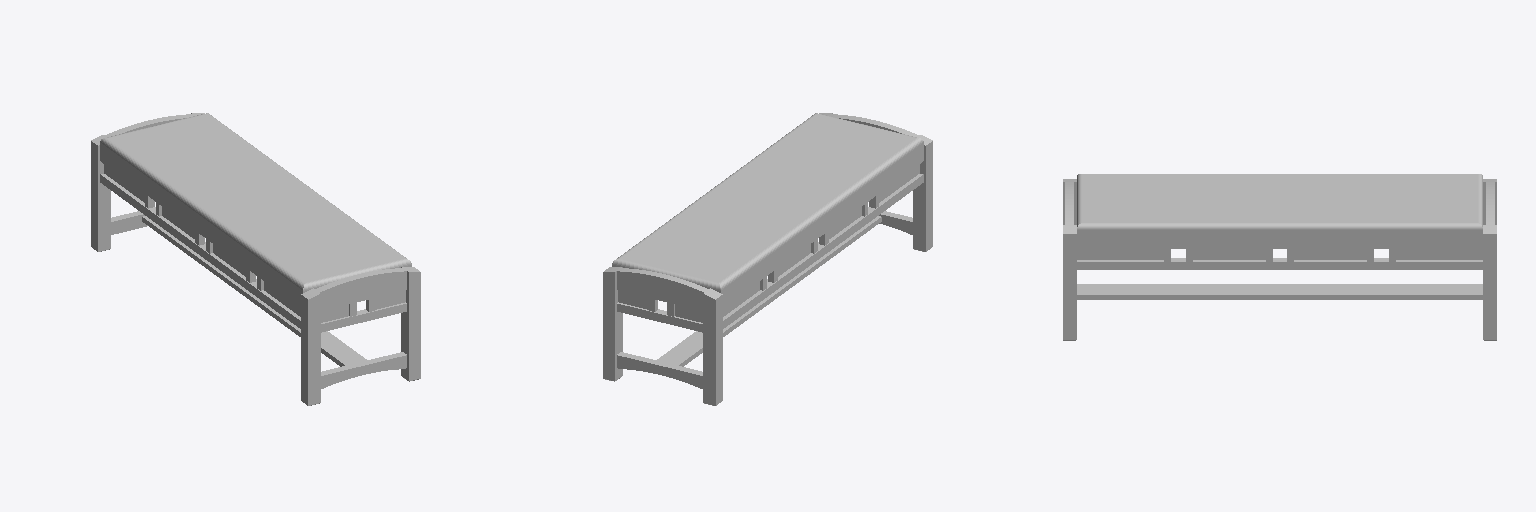
Rendered from chair1.obj.
3 renders of one model, left to right at view 1: azimuth 30°, elevation 25°; view 2: azimuth 150°, elevation 25°; view 3: azimuth 270°, elevation 25°, orthographic.
Parts seen in each view (by area): view 1: Mesh25 Bench_Cushion1 WB_60_1 Model, Mesh9 side_rail_10_2 WB_60_1 Model, Mesh35 leg_3_1 WB_60_1 Model, Mesh3 Bench_Stretcher1 WB_60_1 Model, Mesh39 leg_3_2 WB_60_1 Model, Mesh42 leg_3_3 WB_60_1 Model, Mesh7 side_rail_10_1 WB_60_1 Model, Mesh40 Bench_Crest_Rail1 WB_60_1 Model, Mesh1 Bench_Lower_Rail1 WB_60_1 Model, Mesh32 side_rail_9_4 WB_60_1 Model, Mesh29 side_rail_9_3 WB_60_1 Model, Mesh46 Bench_Lower_Rail2 WB_60_1 Model; view 2: Mesh25 Bench_Cushion1 WB_60_1 Model, Mesh9 side_rail_10_2 WB_60_1 Model, Mesh42 leg_3_3 WB_60_1 Model, Mesh3 Bench_Stretcher1 WB_60_1 Model, Mesh43 leg_3_4 WB_60_1 Model, Mesh35 leg_3_1 WB_60_1 Model, Mesh7 side_rail_10_1 WB_60_1 Model, Mesh45 Bench_Crest_Rail2 WB_60_1 Model, Mesh46 Bench_Lower_Rail2 WB_60_1 Model, Mesh23 side_rail_9_1 WB_60_1 Model, Mesh28 side_rail_9_2 WB_60_1 Model; view 3: Mesh25 Bench_Cushion1 WB_60_1 Model, Mesh3 Bench_Stretcher1 WB_60_1 Model, Mesh18 side_rail_10_3 WB_60_1 Model, Mesh26 side_rail_10_4 WB_60_1 Model, Mesh39 leg_3_2 WB_60_1 Model, Mesh43 leg_3_4 WB_60_1 Model, Mesh4 side_panel_12_1 WB_60_1 Model, Mesh36 side_panel_12_4 WB_60_1 Model, Mesh37 side_panel_13_3 WB_60_1 Model, Mesh38 side_panel_13_4 WB_60_1 Model.
Boxes of the visible parts, box(x1,y1,x2,y2) form: Mesh25 Bench_Cushion1 WB_60_1 Model: box(100, 113, 411, 299); Mesh9 side_rail_10_2 WB_60_1 Model: box(100, 174, 300, 328); Mesh35 leg_3_1 WB_60_1 Model: box(301, 288, 320, 405); Mesh3 Bench_Stretcher1 WB_60_1 Model: box(142, 216, 366, 366); Mesh39 leg_3_2 WB_60_1 Model: box(401, 267, 420, 381); Mesh42 leg_3_3 WB_60_1 Model: box(91, 135, 110, 251); Mesh7 side_rail_10_1 WB_60_1 Model: box(100, 153, 300, 307); Mesh40 Bench_Crest_Rail1 WB_60_1 Model: box(315, 268, 406, 302); Mesh1 Bench_Lower_Rail1 WB_60_1 Model: box(321, 352, 406, 388); Mesh32 side_rail_9_4 WB_60_1 Model: box(321, 302, 406, 332); Mesh29 side_rail_9_3 WB_60_1 Model: box(321, 282, 406, 310); Mesh46 Bench_Lower_Rail2 WB_60_1 Model: box(111, 211, 147, 234); Mesh25 Bench_Cushion1 WB_60_1 Model: box(612, 113, 923, 299); Mesh9 side_rail_10_2 WB_60_1 Model: box(723, 174, 923, 328); Mesh42 leg_3_3 WB_60_1 Model: box(703, 288, 722, 405); Mesh3 Bench_Stretcher1 WB_60_1 Model: box(657, 216, 881, 366); Mesh43 leg_3_4 WB_60_1 Model: box(603, 267, 622, 381); Mesh35 leg_3_1 WB_60_1 Model: box(913, 135, 932, 251); Mesh7 side_rail_10_1 WB_60_1 Model: box(723, 153, 923, 307); Mesh45 Bench_Crest_Rail2 WB_60_1 Model: box(617, 268, 708, 302); Mesh46 Bench_Lower_Rail2 WB_60_1 Model: box(617, 352, 702, 388); Mesh23 side_rail_9_1 WB_60_1 Model: box(617, 302, 702, 332); Mesh28 side_rail_9_2 WB_60_1 Model: box(617, 282, 702, 310); Mesh25 Bench_Cushion1 WB_60_1 Model: box(1077, 174, 1482, 240); Mesh3 Bench_Stretcher1 WB_60_1 Model: box(1077, 284, 1482, 299); Mesh18 side_rail_10_3 WB_60_1 Model: box(1077, 258, 1482, 269); Mesh26 side_rail_10_4 WB_60_1 Model: box(1077, 241, 1482, 248); Mesh39 leg_3_2 WB_60_1 Model: box(1063, 225, 1076, 340); Mesh43 leg_3_4 WB_60_1 Model: box(1483, 225, 1496, 340); Mesh4 side_panel_12_1 WB_60_1 Model: box(1396, 249, 1482, 259); Mesh36 side_panel_12_4 WB_60_1 Model: box(1077, 249, 1163, 259); Mesh37 side_panel_13_3 WB_60_1 Model: box(1294, 249, 1366, 259); Mesh38 side_panel_13_4 WB_60_1 Model: box(1193, 249, 1265, 259).
Size of the model in its own units: 18 by 17.5 by 60.